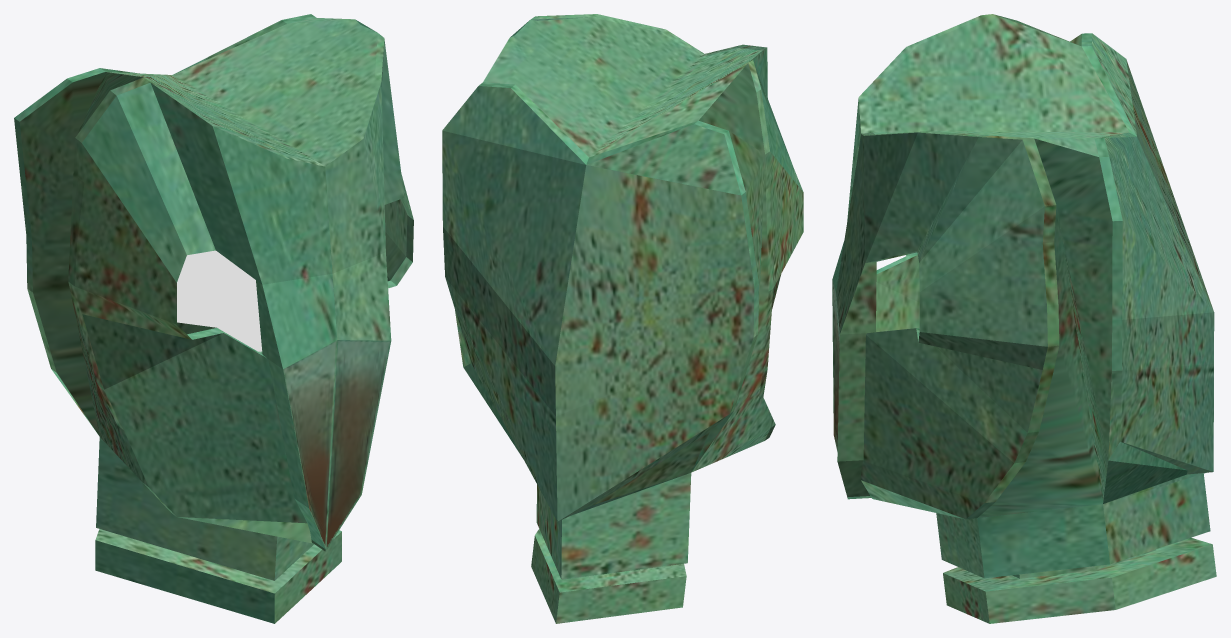
The model's file is owlHeadNew.fbx.
The picture shows the model from 3 angles, left to right: view 1: azimuth 30°, elevation 25°; view 2: azimuth 150°, elevation 25°; view 3: azimuth 270°, elevation 25°; orthographic projection. The views are drawn at different scales.
Visible parts, largest first — view 1: OwlMask; view 2: OwlMask; view 3: OwlMask.
Boxes of the visible parts, box(x1,y1,x2,y2) form: OwlMask: box(14, 14, 413, 623); OwlMask: box(442, 14, 803, 623); OwlMask: box(832, 14, 1216, 623).
Size of the model in its own units: 101 by 167 by 108.
